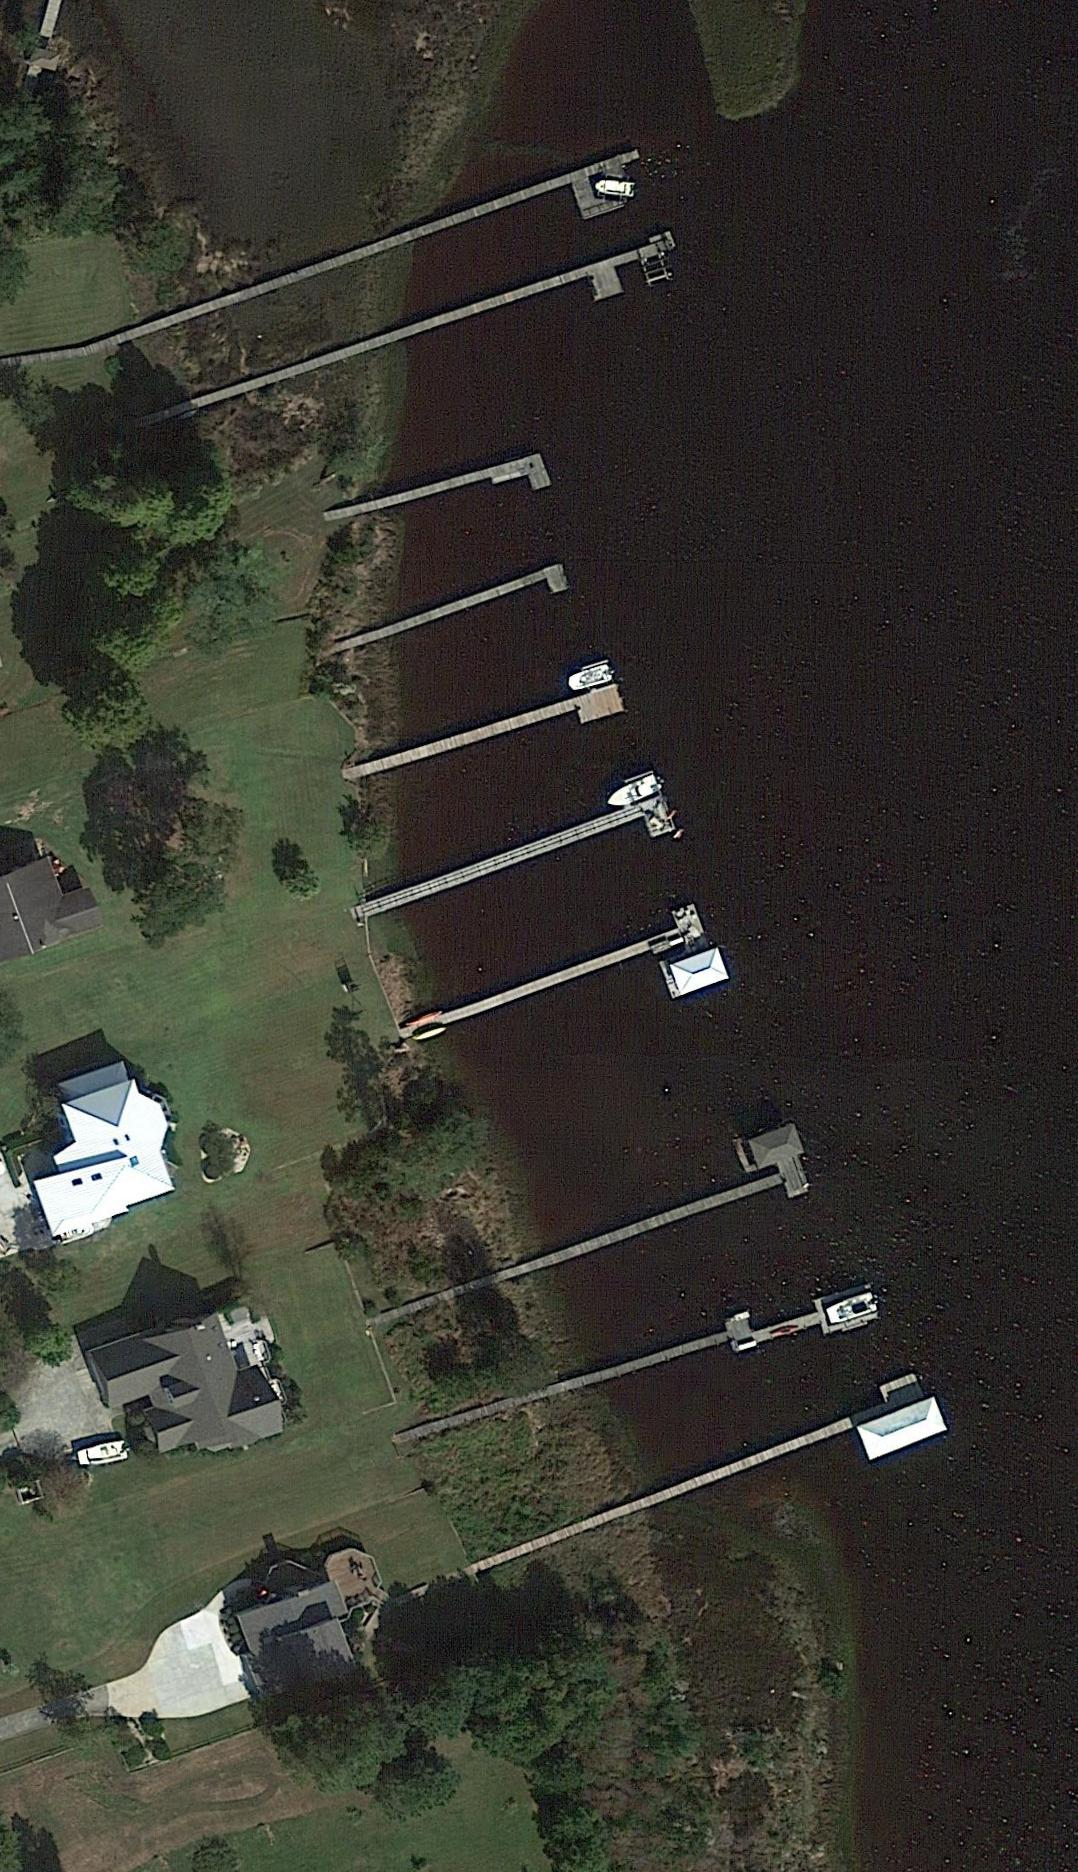harbor: (114, 149, 655, 375), (197, 231, 683, 426), (563, 1367, 949, 1571), (489, 1269, 881, 1435), (520, 1121, 819, 1284), (450, 897, 731, 1071), (385, 791, 675, 930), (367, 680, 626, 798), (352, 561, 571, 663), (347, 451, 549, 541)
ship: (601, 769, 662, 815), (819, 1287, 884, 1329), (77, 1435, 132, 1471), (566, 658, 617, 697), (590, 174, 641, 206)
